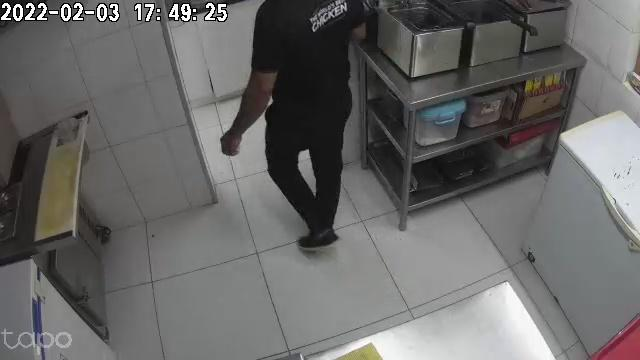no_gloves: (220, 122, 247, 155)
